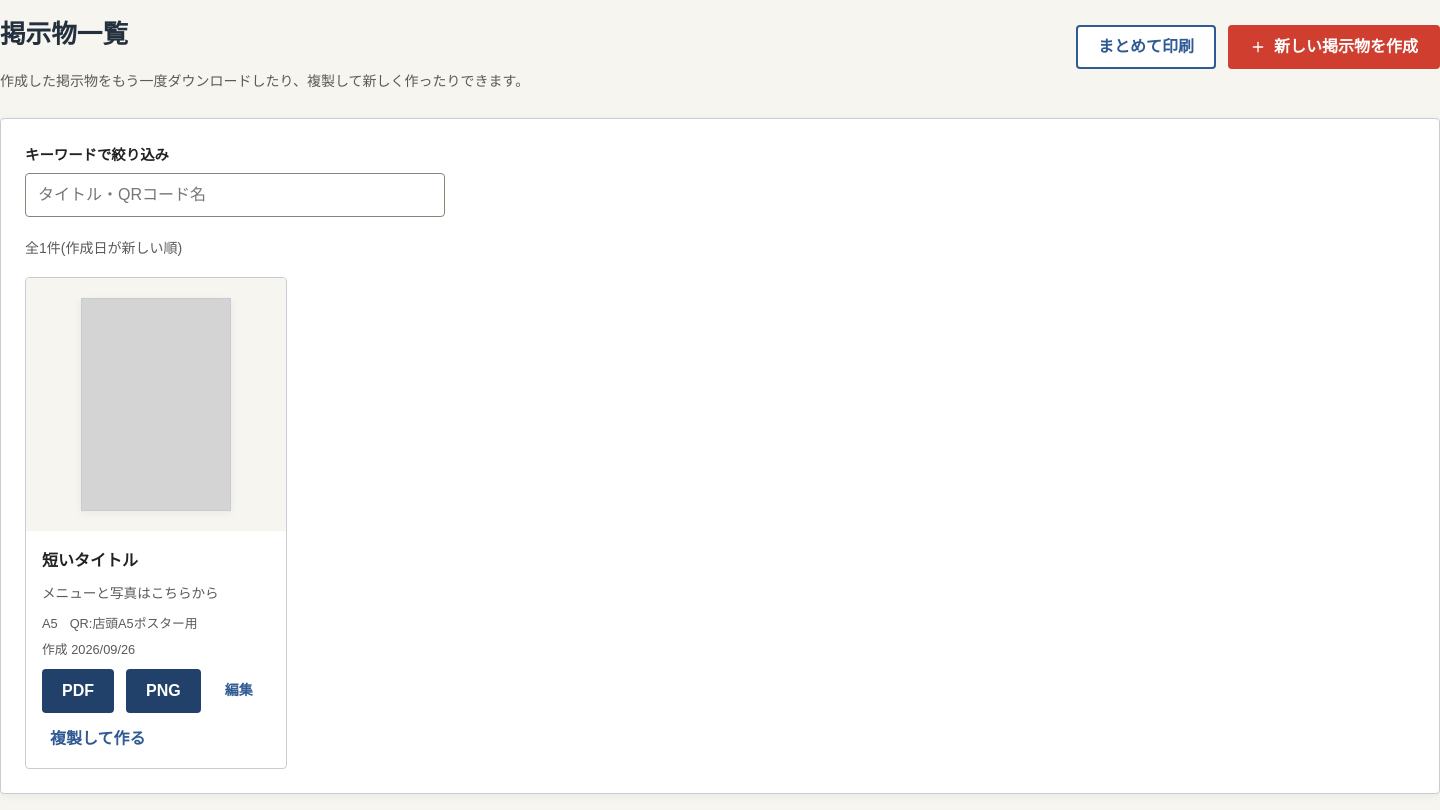
Test: PosterListPage › 複製に失敗したら、サーバーのエラー文言を表示して一覧に留まる
Click the button with aria-label "短いタイトルを複製して作る" at (98, 738), box [42,725,154,752]
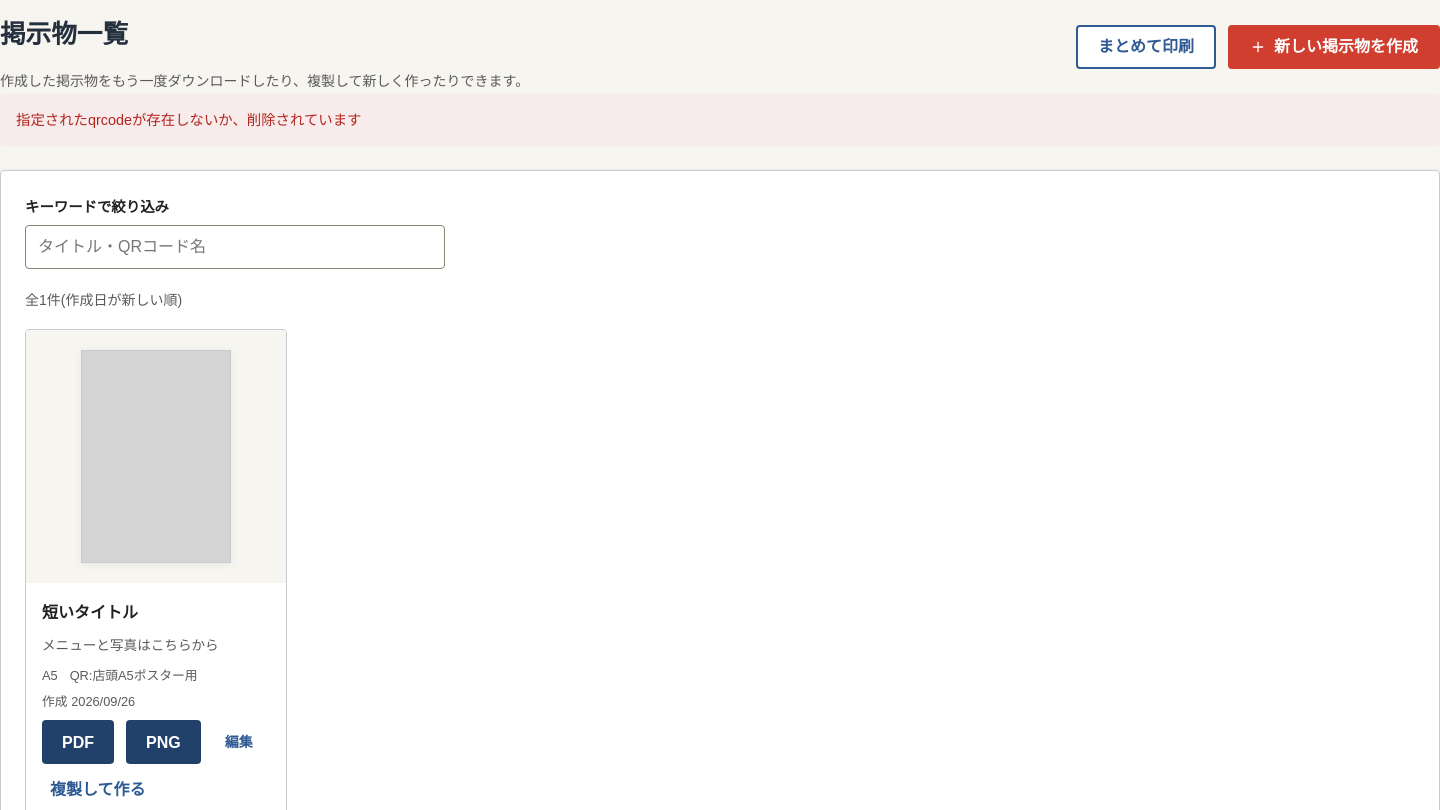
Expected: the text "短いタイトル" is shown, [42,604,138,621]
Expected: the text "指定されたqrcodeが存在しないか、削除されています" is shown, [0,94,1439,146]
